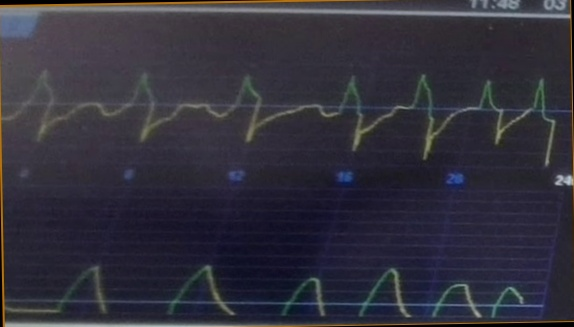Ineffective_effort Flow: (2, 60, 557, 164)
Ineffective_effort Volume: (7, 251, 524, 320)
